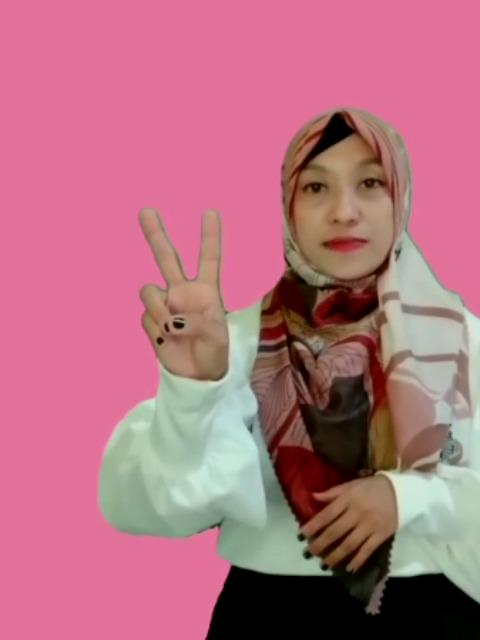V: (135, 199, 243, 381)
